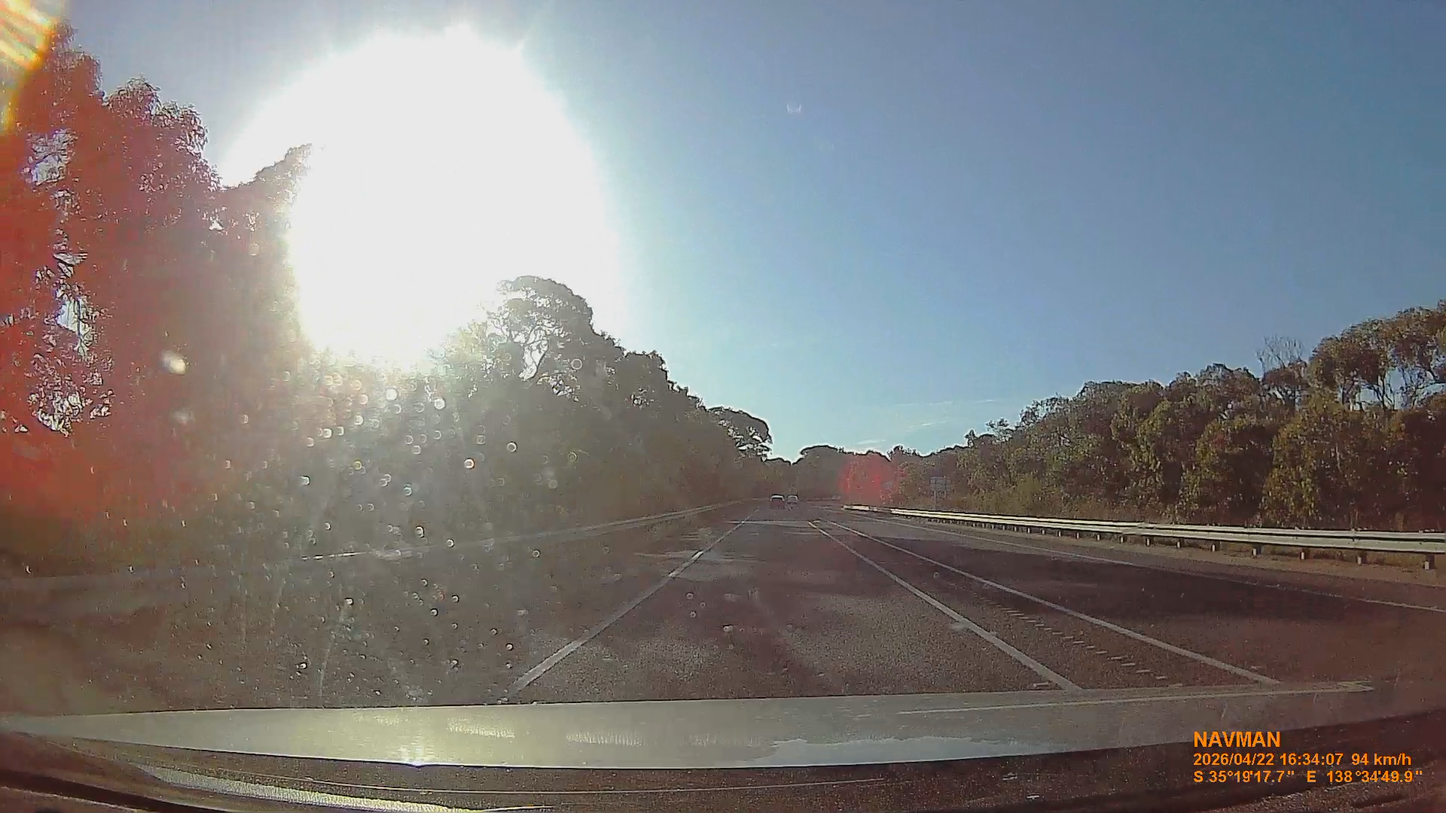road barriers: (891, 510, 1445, 555)
